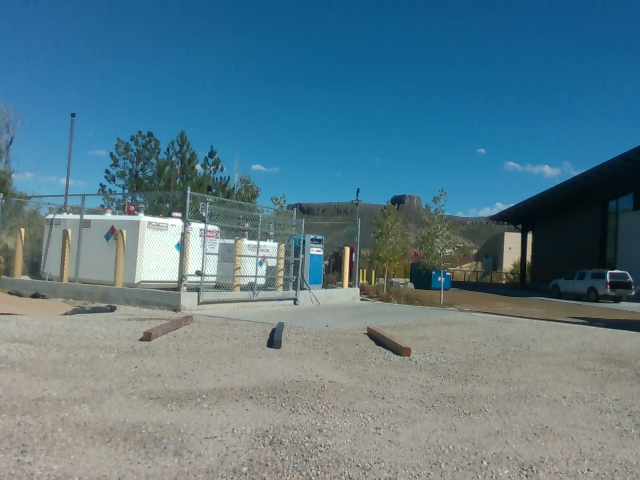dunnage: (136, 309, 423, 359)
